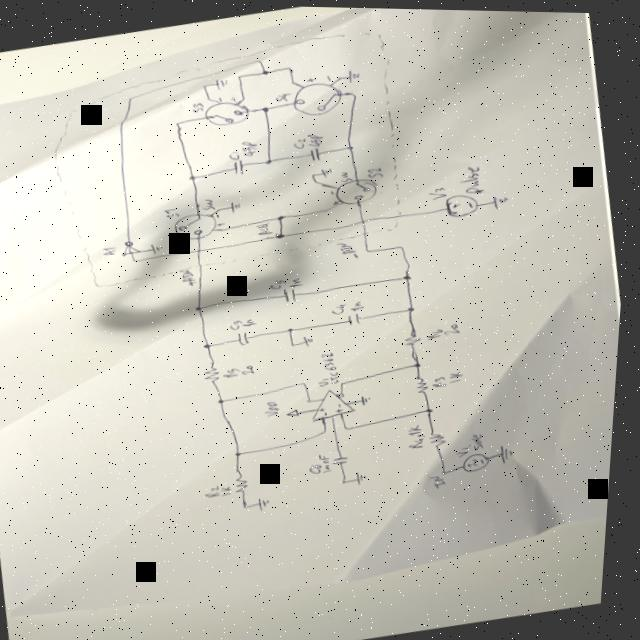capacitor: (232, 157, 249, 174), (238, 328, 254, 345), (285, 284, 301, 301), (349, 309, 366, 324), (309, 144, 325, 159), (336, 452, 355, 464)
crossover: (196, 246, 206, 252), (360, 216, 369, 222)
ground: (503, 439, 521, 461), (493, 190, 514, 207), (212, 74, 231, 90), (344, 66, 362, 82), (262, 494, 278, 510), (151, 240, 168, 254), (360, 467, 374, 483), (231, 198, 244, 212), (321, 164, 335, 176), (306, 332, 318, 345), (364, 391, 377, 403)
junction: (408, 302, 420, 311), (427, 403, 439, 412), (275, 230, 288, 238), (260, 103, 272, 111), (323, 425, 335, 433), (205, 340, 216, 348), (404, 271, 415, 279), (220, 396, 231, 404), (345, 141, 356, 149), (416, 358, 427, 366), (259, 67, 270, 75), (189, 172, 199, 180), (197, 303, 207, 310), (265, 156, 275, 163), (174, 119, 184, 126), (277, 213, 288, 219), (346, 423, 357, 429), (239, 449, 249, 455), (125, 94, 135, 100), (349, 89, 359, 95), (289, 324, 298, 330), (254, 56, 263, 62), (445, 466, 454, 472), (200, 81, 209, 87), (398, 242, 408, 247), (308, 396, 318, 401), (342, 377, 350, 383), (217, 204, 225, 210), (303, 379, 312, 384), (365, 246, 374, 251), (234, 72, 243, 77), (221, 225, 230, 230), (240, 95, 249, 100), (314, 177, 322, 182), (324, 206, 332, 211), (205, 95, 213, 100), (286, 64, 293, 69), (248, 502, 255, 507), (293, 340, 300, 345), (311, 170, 318, 175), (289, 78, 296, 83), (347, 477, 353, 482), (337, 73, 343, 78), (134, 257, 141, 261)
resistor: (237, 466, 256, 491), (205, 362, 227, 383), (431, 427, 453, 446), (417, 372, 435, 392), (405, 329, 426, 344)
source: (442, 187, 484, 218), (463, 448, 495, 471), (289, 406, 305, 416)
switch: (287, 74, 346, 120), (170, 208, 230, 244), (201, 92, 253, 129), (331, 171, 383, 208)
text: (458, 161, 487, 194), (323, 349, 347, 383), (408, 421, 432, 448), (338, 237, 364, 259), (240, 137, 262, 156), (321, 450, 339, 472), (266, 397, 286, 416), (182, 266, 201, 286), (307, 129, 328, 146), (473, 429, 491, 448), (428, 183, 450, 198), (435, 471, 454, 488), (208, 483, 228, 498), (445, 319, 466, 333), (459, 439, 477, 455), (434, 372, 453, 386), (451, 367, 470, 381), (225, 365, 247, 377), (428, 325, 448, 338), (332, 300, 352, 313), (367, 164, 387, 177), (274, 89, 294, 102), (271, 276, 290, 289), (257, 220, 274, 234), (165, 205, 183, 218), (339, 167, 356, 180), (352, 297, 369, 310), (290, 274, 307, 287), (190, 99, 206, 112), (293, 135, 309, 148), (231, 317, 248, 329), (244, 315, 262, 326), (103, 245, 121, 256), (203, 195, 217, 209), (227, 147, 243, 159), (244, 362, 260, 374), (313, 460, 329, 472), (225, 483, 239, 495), (320, 375, 336, 385), (305, 73, 318, 82), (215, 94, 225, 101), (324, 73, 333, 80), (321, 404, 330, 410), (339, 406, 347, 411), (330, 187, 336, 193), (230, 94, 237, 99), (326, 410, 334, 414), (333, 198, 339, 203), (216, 212, 223, 216), (340, 402, 346, 406), (219, 221, 225, 225)
